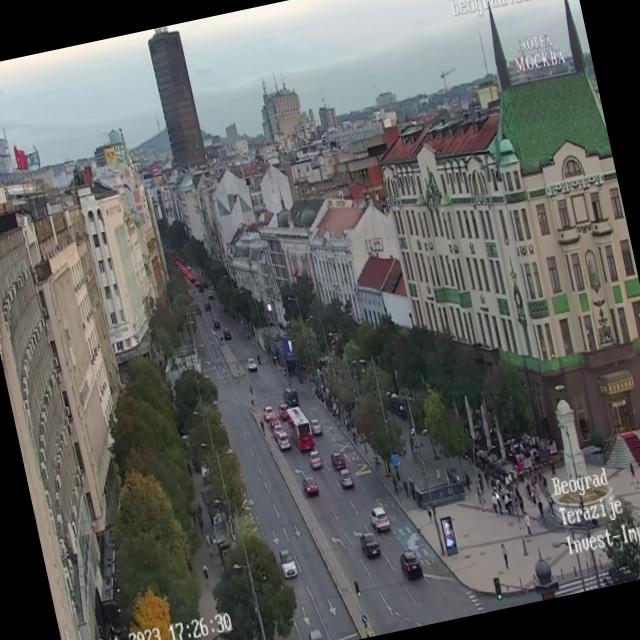bus: (286, 406, 316, 454)
car: (398, 548, 424, 582), (366, 501, 392, 532), (276, 547, 298, 579), (358, 530, 382, 559), (337, 466, 356, 488), (282, 384, 299, 406), (274, 430, 292, 450), (331, 452, 347, 474), (267, 413, 284, 432), (308, 448, 323, 468), (302, 474, 316, 494), (306, 626, 326, 640), (246, 354, 257, 374), (277, 402, 288, 422), (310, 418, 322, 436), (222, 326, 233, 342), (212, 313, 220, 331)
